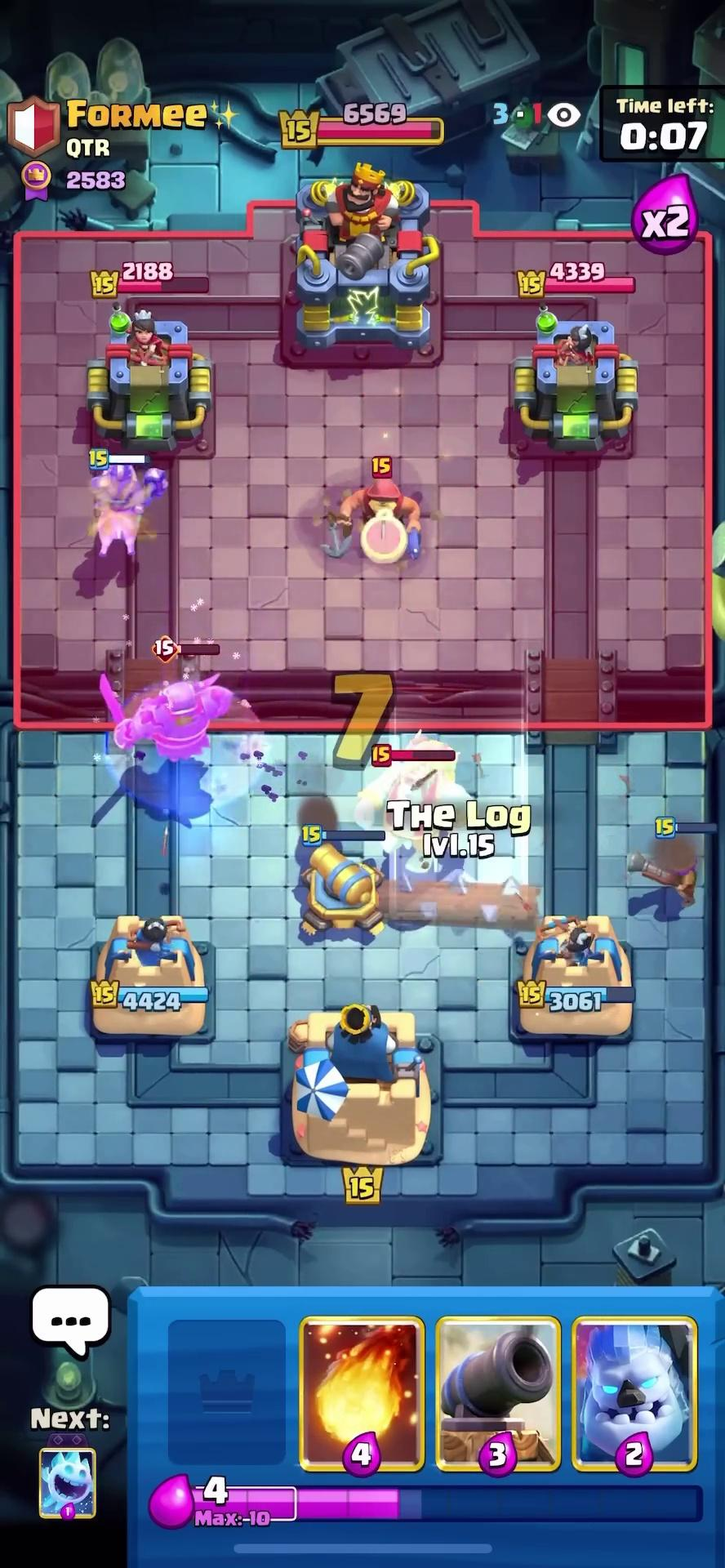cannon: (286, 821, 394, 939)
hog_rider: (73, 441, 176, 559)
musketeer: (633, 811, 712, 911)
